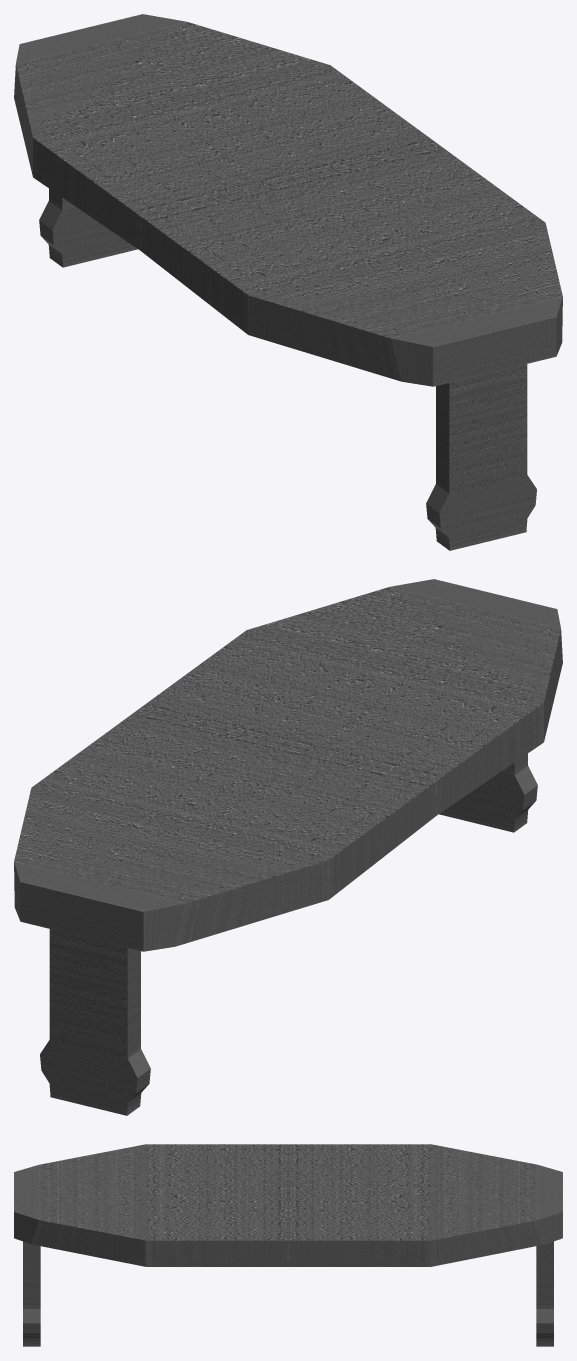
The model's file is longtable.fbx.
3 views of the same model, one above another, from view 1: azimuth 30°, elevation 25°; view 2: azimuth 150°, elevation 25°; view 3: azimuth 270°, elevation 25° (orthographic). The views are drawn at different scales.
Parts seen in each view (by area): view 1: table2; view 2: table2; view 3: table2.
Part boxes in pixels (x1=…): table2: x1=14, y1=14, x2=562, y2=550; table2: x1=14, y1=579, x2=562, y2=1115; table2: x1=14, y1=1144, x2=562, y2=1346.
Size of the model in its own units: 5.09 by 3.51 by 12.27.
